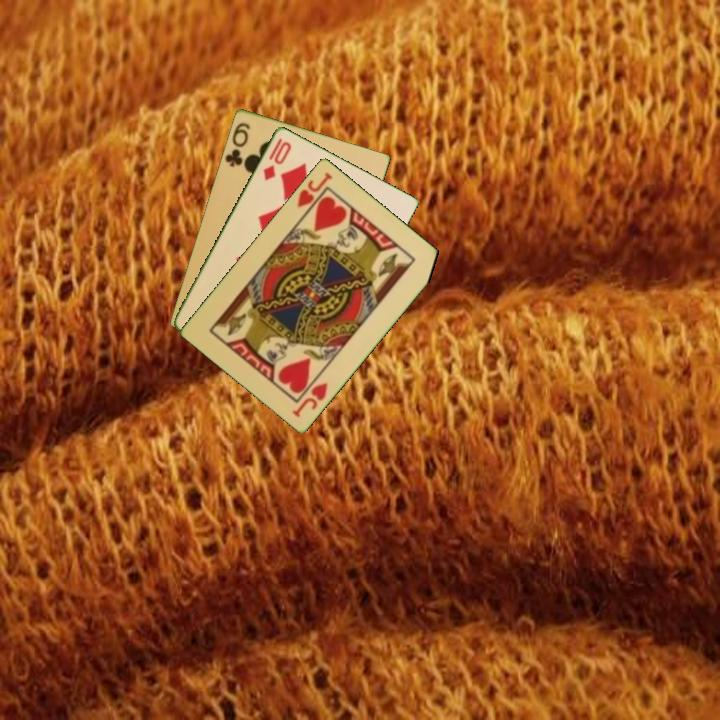10d: (259, 134, 294, 184)
6c: (222, 119, 253, 169)
Jh: (288, 378, 331, 420), (293, 168, 335, 210)
